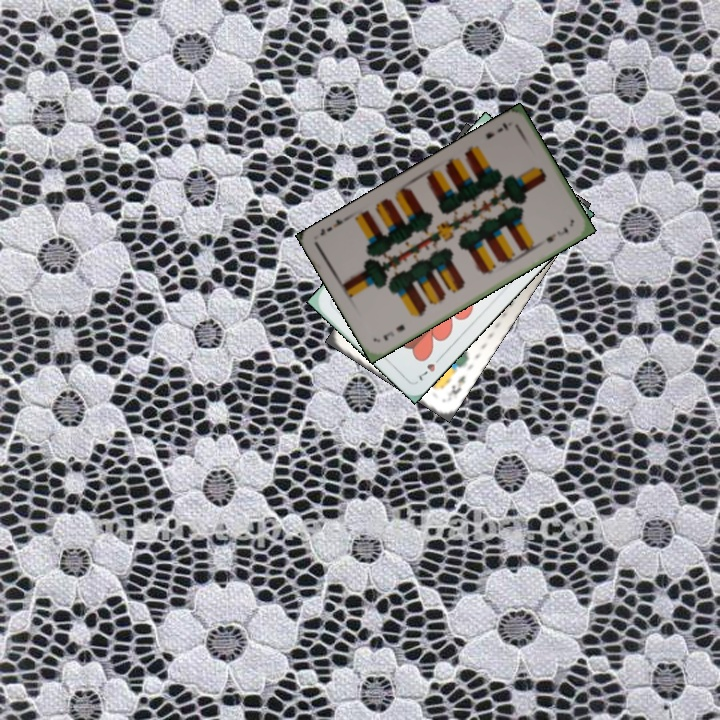E7: (482, 118, 511, 141), (379, 320, 407, 343)
EK: (447, 371, 468, 397)
H7: (412, 351, 445, 384)
